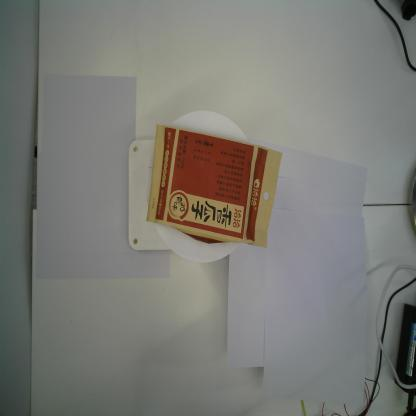Dried Food: (145, 123, 283, 249)
